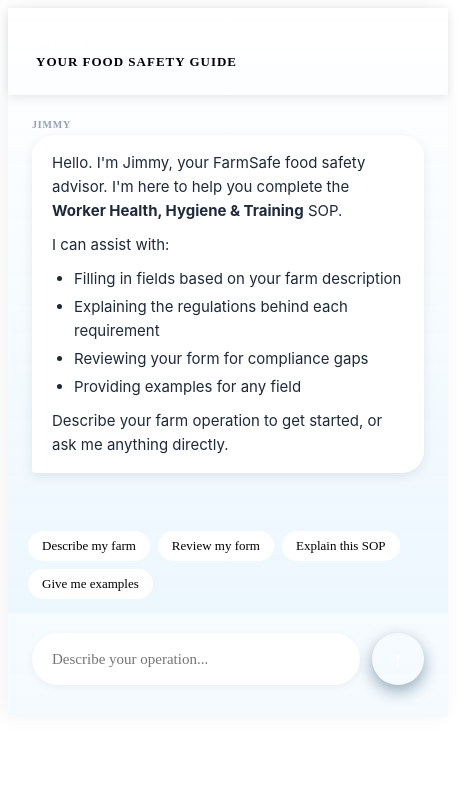
ChatPanel › asks the server in the SOP chat mode, sending the conversation without the greeting
Type "What goes in handwashing?" into the field at (196, 659), box [32,633,360,685]
Then press Enter
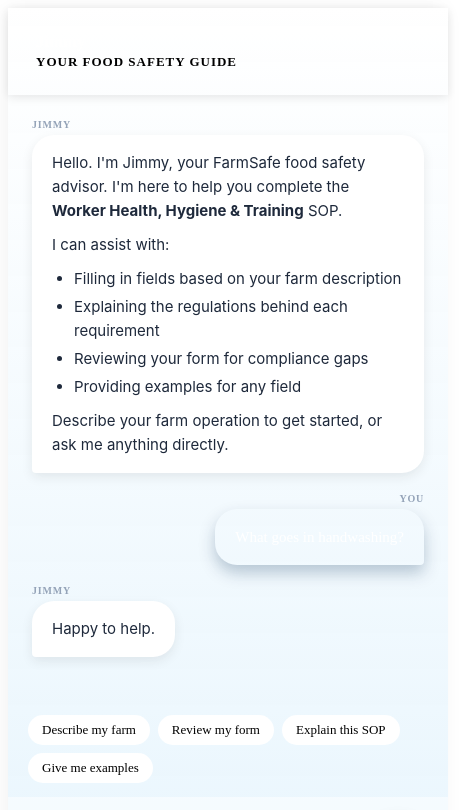
Check: the text "Happy to help." is shown, box [52,617,155,641]
